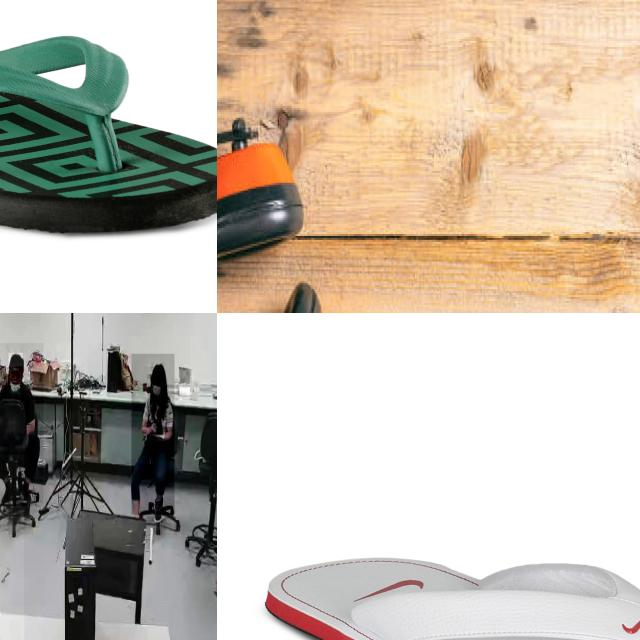Ear-protection: (217, 116, 338, 313)
Sandals: (0, 21, 217, 238), (263, 555, 640, 640)
face_mask: (150, 374, 165, 404)
face_nomask: (8, 367, 22, 385)
hand_noglove: (149, 420, 157, 433)
head_nohelmet: (8, 353, 24, 367), (151, 363, 165, 375)
person: (0, 343, 44, 506), (131, 354, 175, 516)
shoes: (17, 478, 35, 506), (152, 493, 166, 529), (0, 478, 16, 506)
